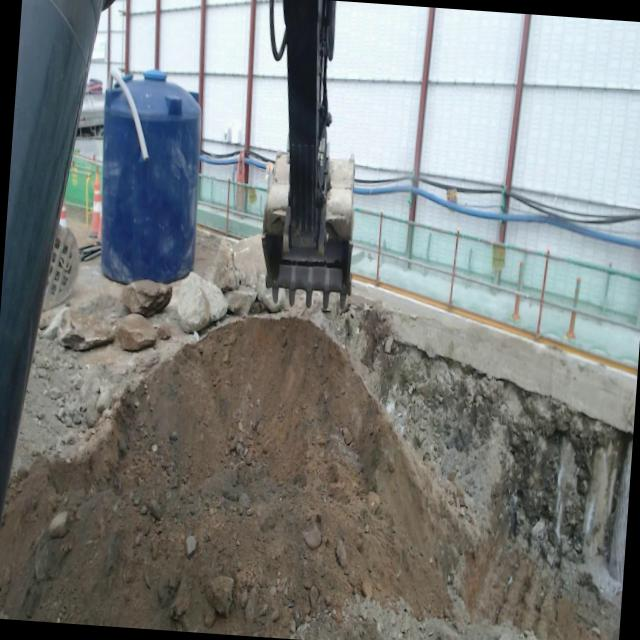cement: (354, 280, 637, 433)
red-sand: (0, 318, 601, 640)
stone: (207, 234, 282, 314), (177, 271, 227, 332), (57, 307, 117, 350), (121, 279, 172, 317), (115, 313, 157, 351)
